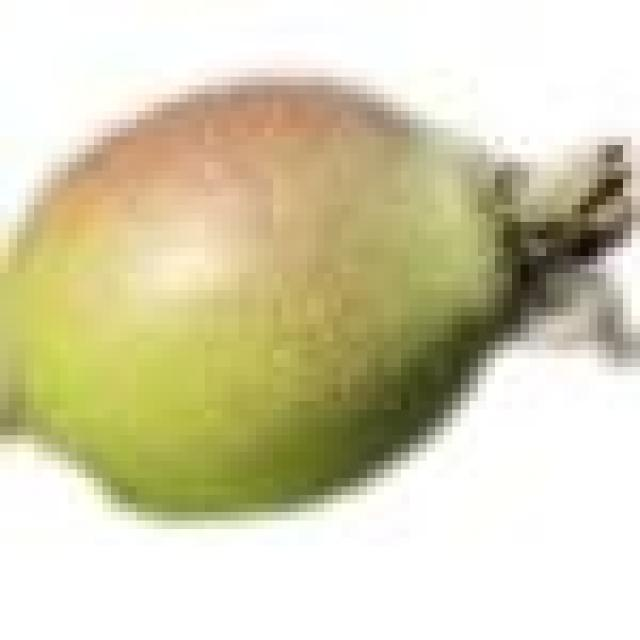Rotten Apple: (0, 73, 640, 516)
